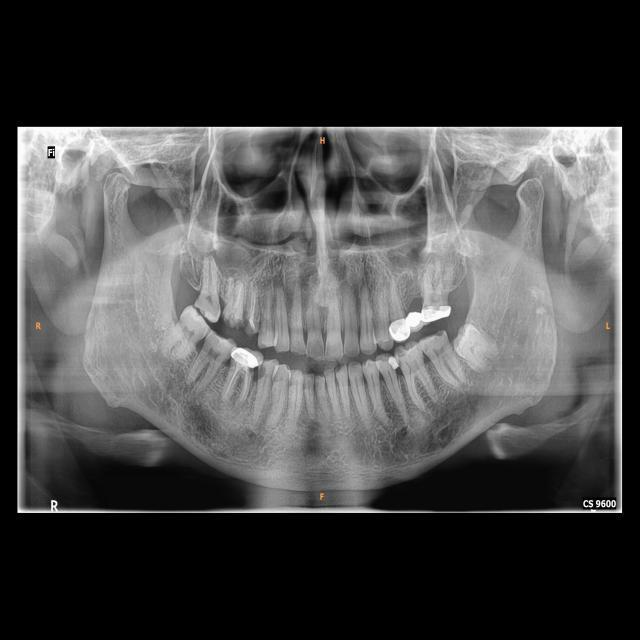dentin-curugu: (225, 314, 245, 330), (258, 364, 267, 382)
dolgu: (384, 356, 399, 371), (247, 321, 259, 333)
kanal-tedavisi: (227, 365, 249, 404), (248, 289, 256, 321)
kaplama: (232, 347, 258, 368), (423, 304, 453, 320), (389, 318, 410, 340)
kopru: (398, 304, 429, 332)
